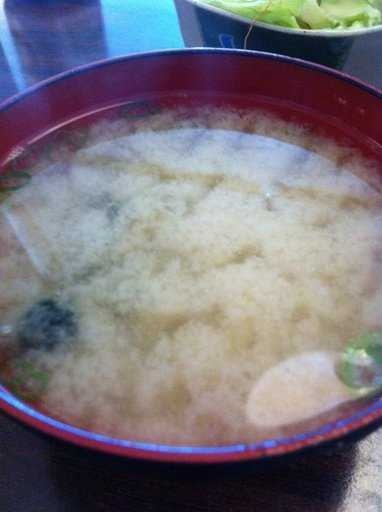soup: (8, 74, 364, 454)
